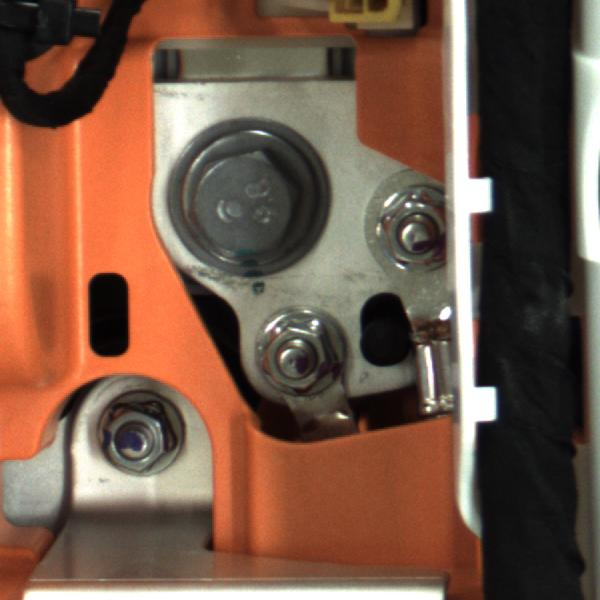nut_b: (158, 122, 329, 271)
screw_s: (95, 398, 196, 484), (257, 312, 349, 400), (367, 185, 446, 279)
